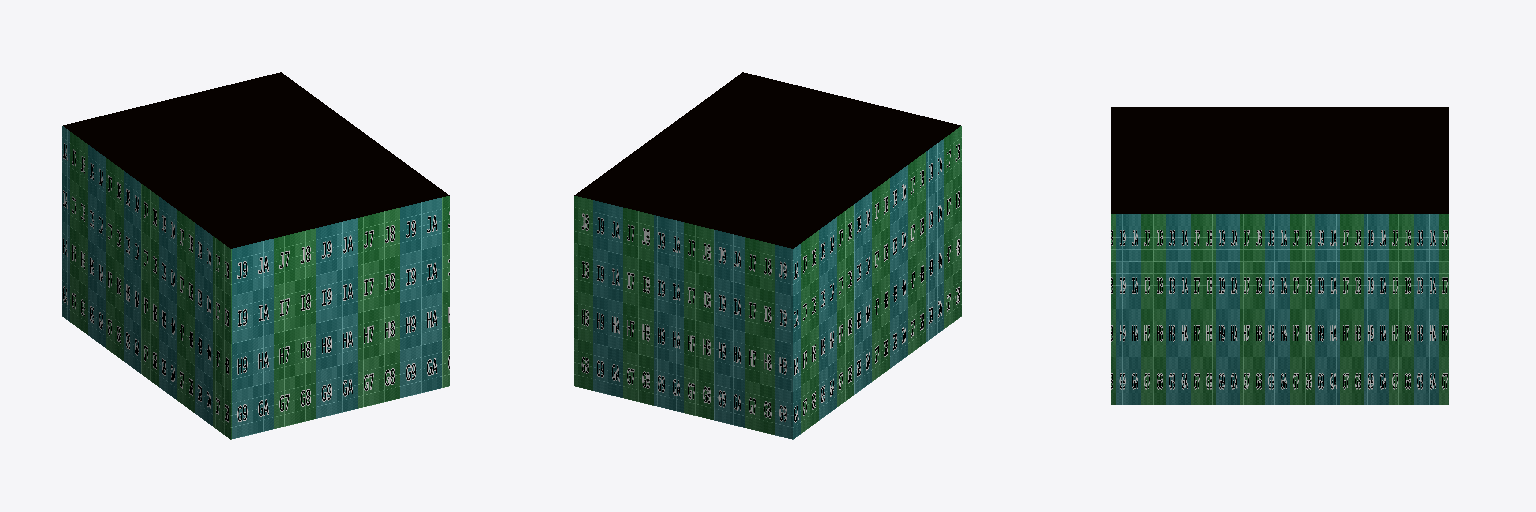
3 renders of one model, left to right at view 1: azimuth 30°, elevation 25°; view 2: azimuth 150°, elevation 25°; view 3: azimuth 270°, elevation 25°, orthographic.
Parts seen in each view (by area): view 1: Cube; view 2: Cube; view 3: Cube.
Boxes of the visible parts, x1,y1,x2,y2 form: Cube: [62, 72, 449, 439]; Cube: [574, 72, 961, 439]; Cube: [1111, 107, 1448, 404].
Size of the model in its own units: 3 by 2.5 by 4.
Materials: 3 (2 with a texture image).